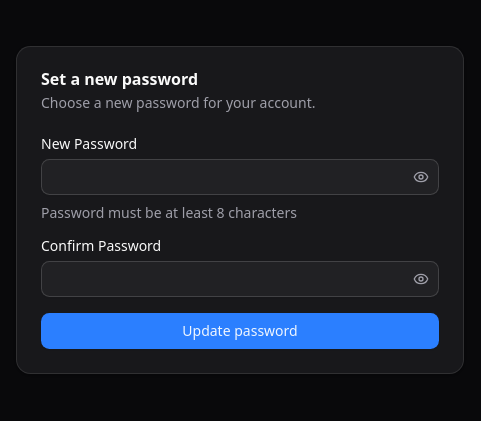
Test: /reset-password route › leaves the recovery session out of the default client when the password change fails
Type "newpassword123" into the password field labelled "New Password" at (240, 177), box top-left (41, 159), bottom-right (439, 195)
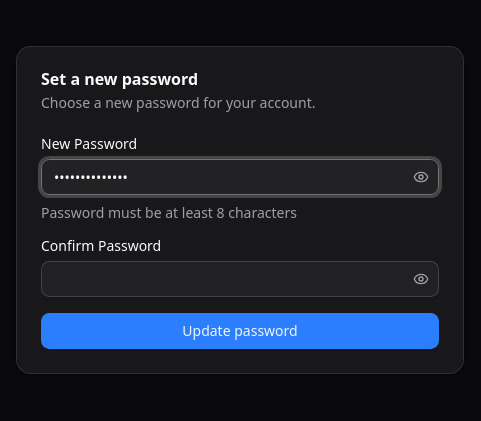
Type "newpassword123" into the password field labelled "Confirm Password" at (240, 279), box top-left (41, 261), bottom-right (439, 297)
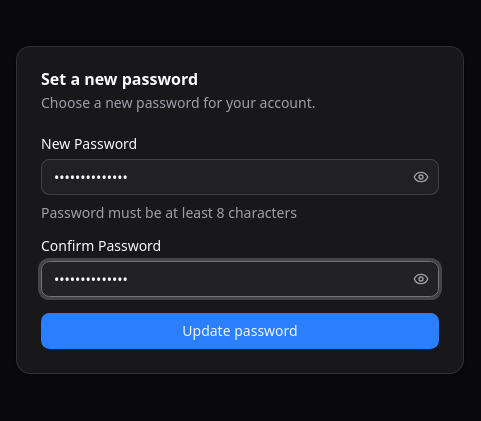
Click the button "Update password" at (240, 331), box top-left (41, 313), bottom-right (439, 349)
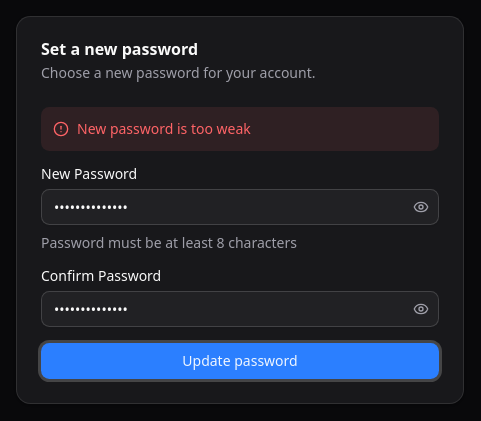
Expected: the message reads "New password is too weak", top-left (77, 119), bottom-right (251, 138)
